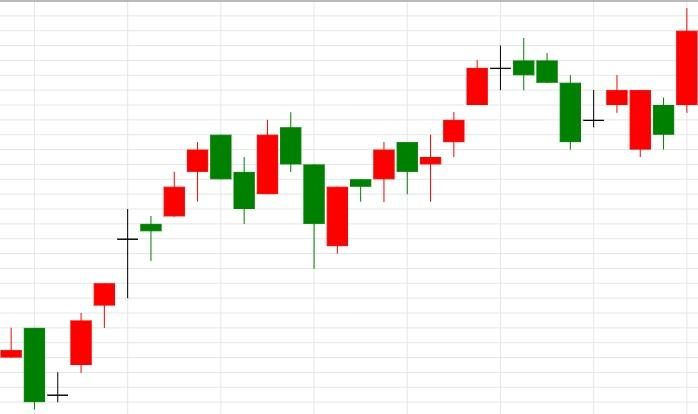evening_star_fall: (325, 38, 535, 254)
